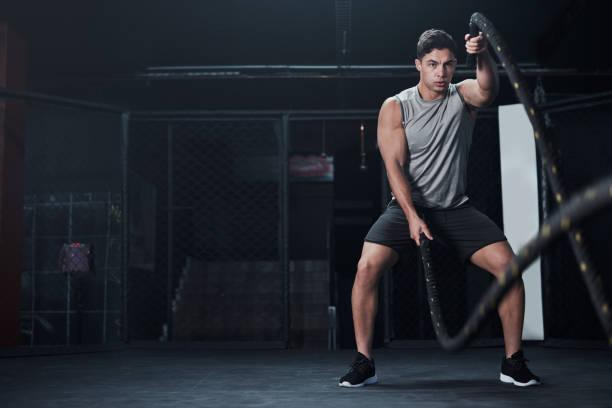no_helmet: (406, 86, 456, 125)
none: (356, 122, 486, 211)
